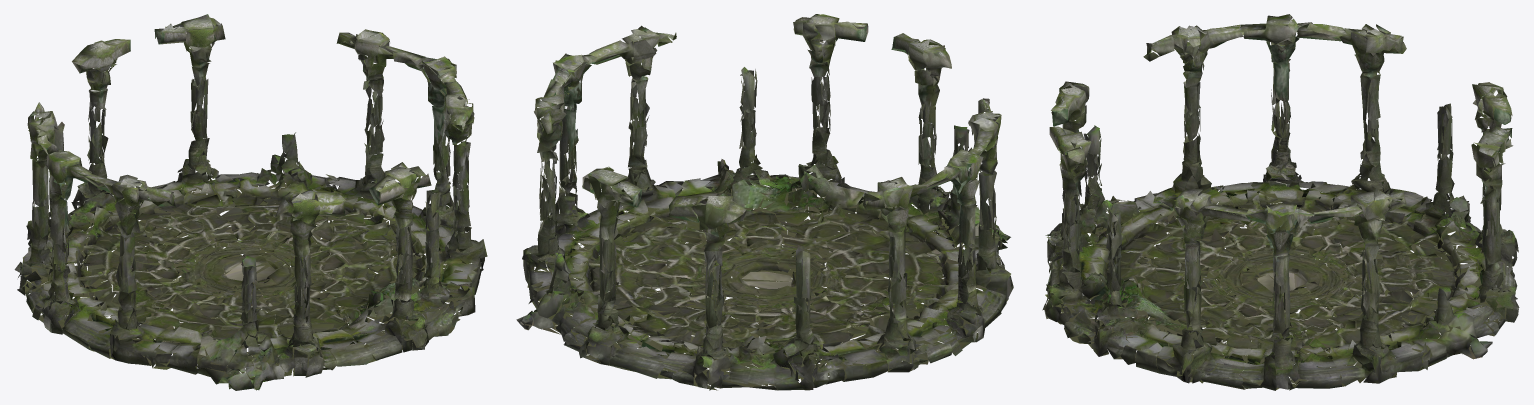
Rendered from Ancient_Stone_Circle_town.glb.
3 renders of one model, left to right at view 1: azimuth 30°, elevation 25°; view 2: azimuth 150°, elevation 25°; view 3: azimuth 270°, elevation 25°, orthographic. The views are drawn at different scales.
Parts seen in each view (by area): view 1: Ancient_Stone_Circle; view 2: Ancient_Stone_Circle; view 3: Ancient_Stone_Circle.
Part boxes in pixels (<box>): Ancient_Stone_Circle: <box>14,14,487,390</box>; Ancient_Stone_Circle: <box>516,14,1013,390</box>; Ancient_Stone_Circle: <box>1042,14,1519,390</box>.
Bounding box in the file's own units: 1.92 × 0.814 × 1.87.
Materials: 1 (1 with a texture image).
